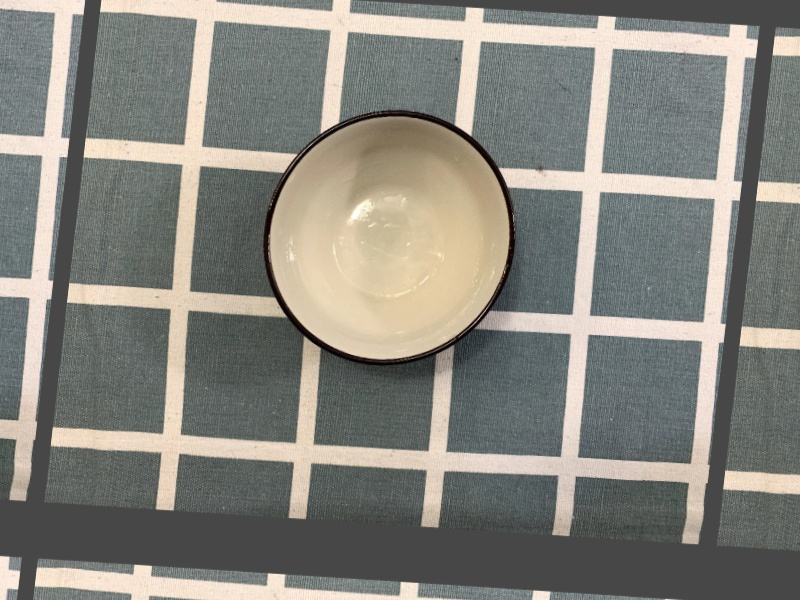bowl_small: (242, 96, 538, 381)
